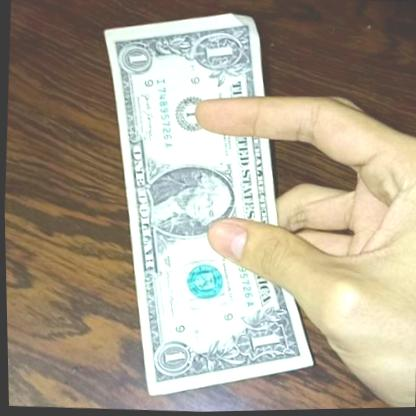one-front: (89, 0, 329, 407)
